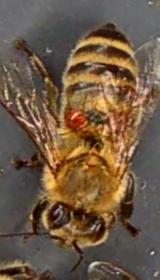varroa_mite: (50, 103, 96, 130)
